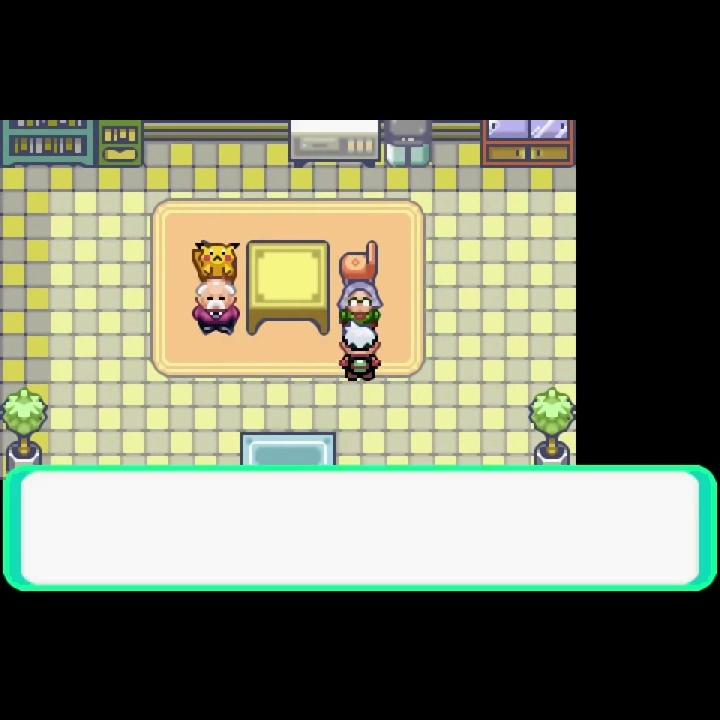exit: (238, 430, 338, 466)
npc: (191, 276, 242, 338), (338, 318, 383, 383), (335, 279, 384, 329)
